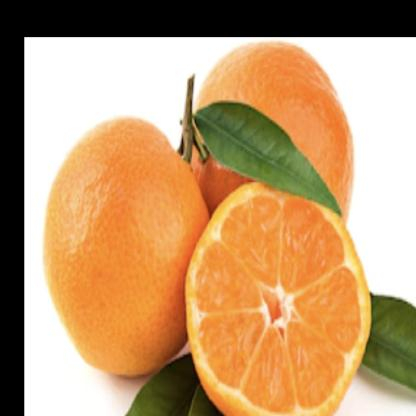fresh: (43, 56, 296, 416)
